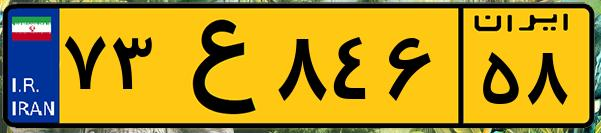3: (110, 28, 158, 98)
4: (330, 28, 385, 110)
5: (475, 38, 525, 113)
6: (385, 28, 445, 110)
7: (57, 26, 110, 100)
8: (270, 28, 330, 110), (525, 38, 570, 115)
ع: (158, 12, 270, 120)
